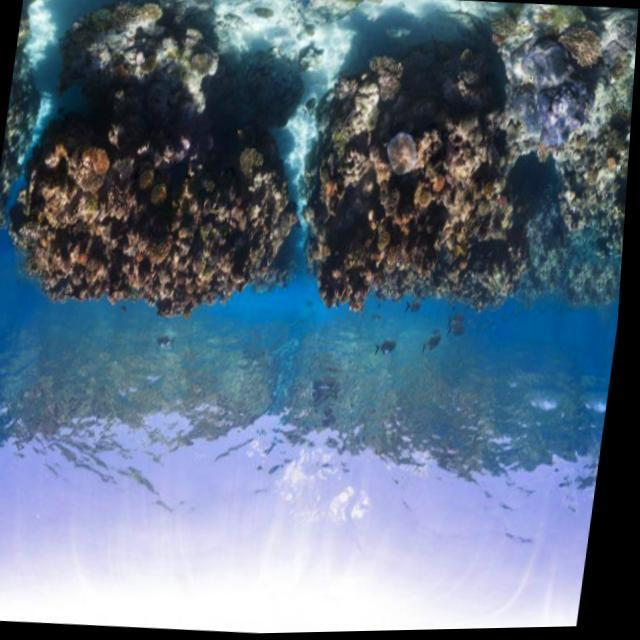Dead Coral: (0, 18, 636, 346)
